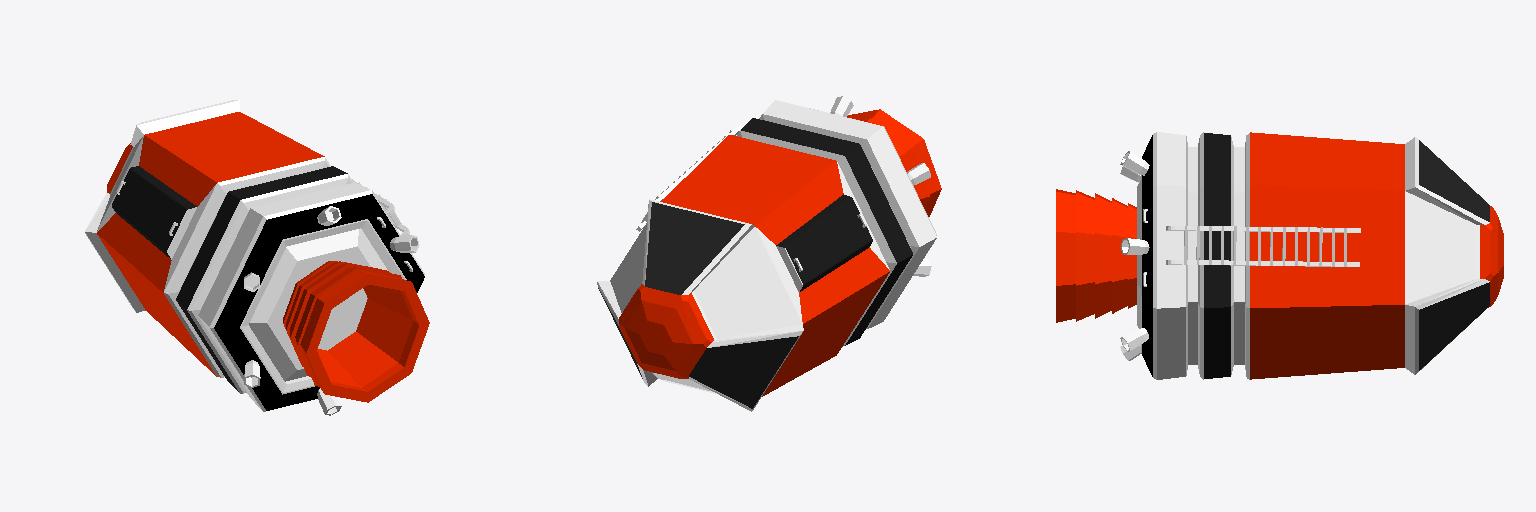
The model's file is ship1.obj.
3 views of the same model, side by side, from view 1: azimuth 30°, elevation 25°; view 2: azimuth 150°, elevation 25°; view 3: azimuth 270°, elevation 25° (orthographic).
Visible parts, largest first — view 1: DropShip; view 2: DropShip; view 3: DropShip.
Part boxes in pixels (x1,y1,x2,y2): DropShip: (85, 100, 429, 415); DropShip: (597, 96, 941, 411); DropShip: (1056, 132, 1503, 379).
Size of the model in its own units: 10.69 by 9.94 by 19.25.